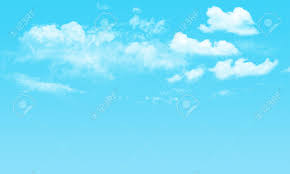sky: (2, 2, 290, 173)
